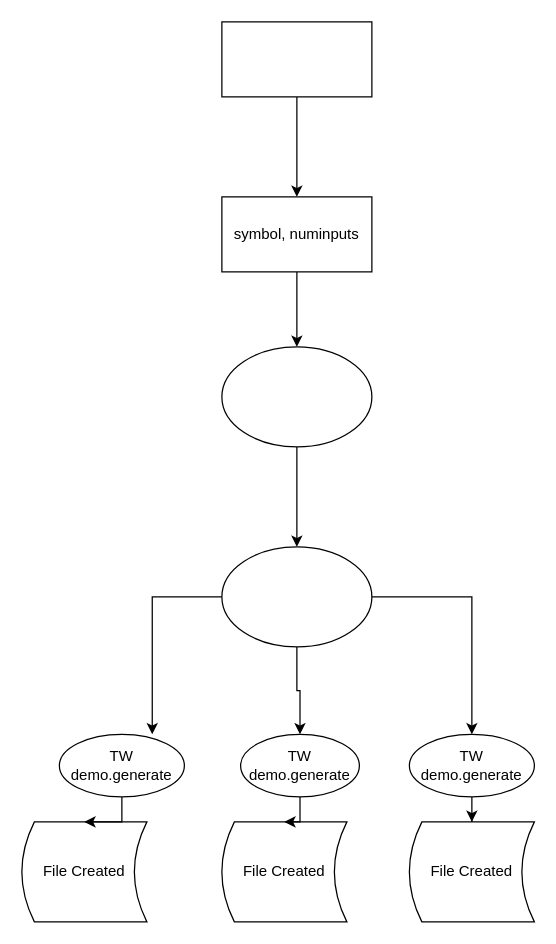
This 556x944 diagram has some shape labels left out. Each missing label, with the centre of its shape:
"Demo" goes at (296,396).
"Demo.Tgenerate parse symbols into array" goes at (296,596).
"TGenerate" goes at (296,59).
